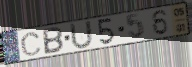5: (125, 12, 148, 42), (97, 16, 116, 47)
6: (151, 9, 169, 37)
B: (42, 26, 65, 56)
C: (19, 31, 43, 57)
U: (69, 19, 95, 51)
